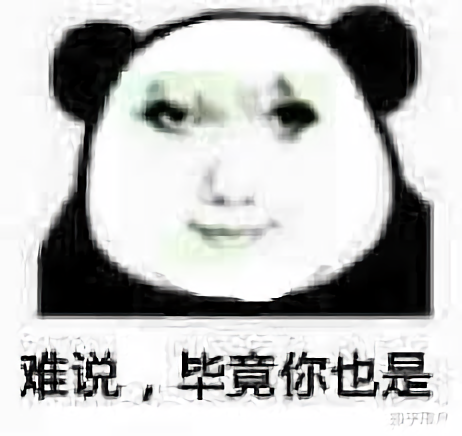dragon: (134, 87, 328, 257)
